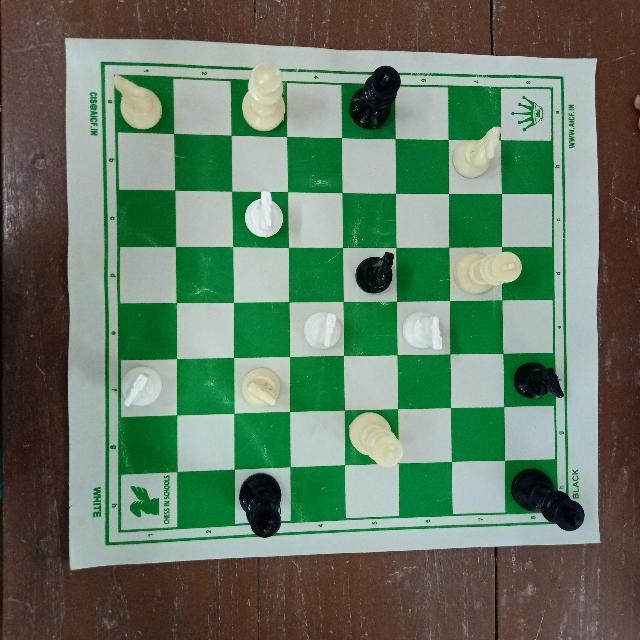black-king: (505, 462, 589, 537), (344, 57, 404, 128), (234, 470, 284, 543)
black-knight: (511, 358, 570, 403), (351, 246, 394, 292)
white-king: (451, 250, 527, 297), (344, 409, 403, 467)
white-knight: (110, 72, 168, 133), (448, 125, 503, 182), (112, 362, 164, 414), (397, 306, 449, 356), (233, 365, 287, 413), (242, 188, 288, 241), (298, 305, 345, 353)
white-queen: (236, 60, 293, 136)
